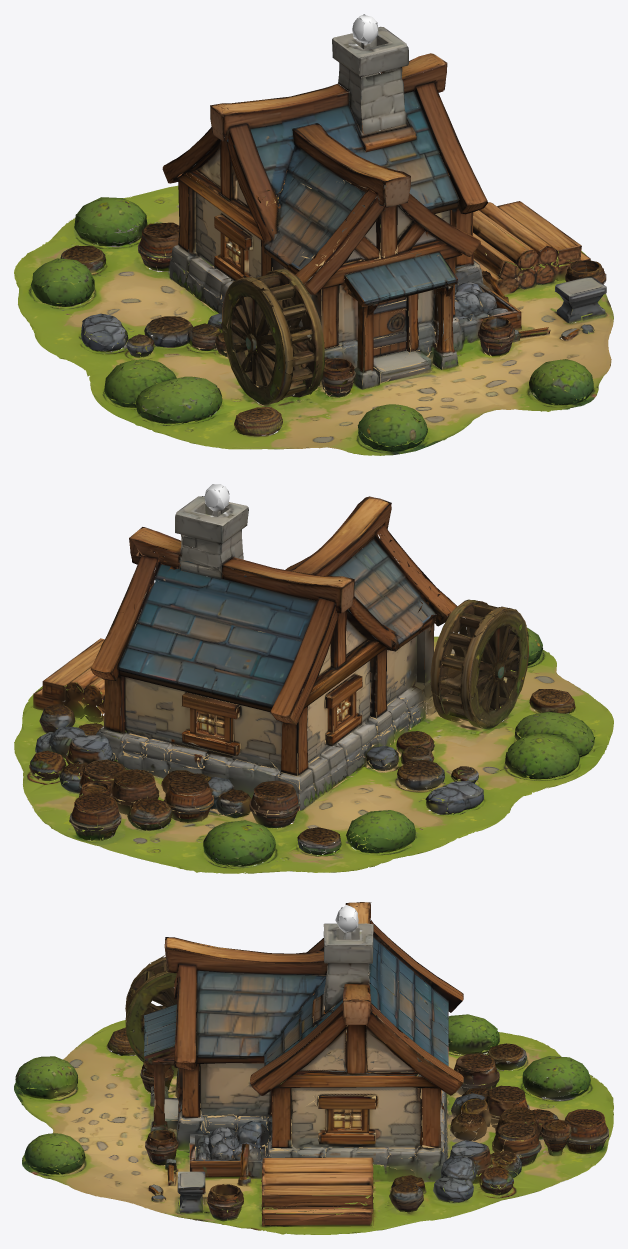
Rendered from Workshop.fbx.
3 renders of one model, top to bottom at view 1: azimuth 30°, elevation 25°; view 2: azimuth 150°, elevation 25°; view 3: azimuth 270°, elevation 25°, orthographic. The views are drawn at different scales.
Parts seen in each view (by area): view 1: node_0; view 2: node_0; view 3: node_0.
Boxes of the visible parts, x1=… form: node_0: x1=14, y1=14, x2=613, y2=455; node_0: x1=14, y1=484, x2=613, y2=873; node_0: x1=14, y1=902, x2=613, y2=1234.
Size of the model in its own units: 203 by 101 by 224.
1 material, 1 textured.
